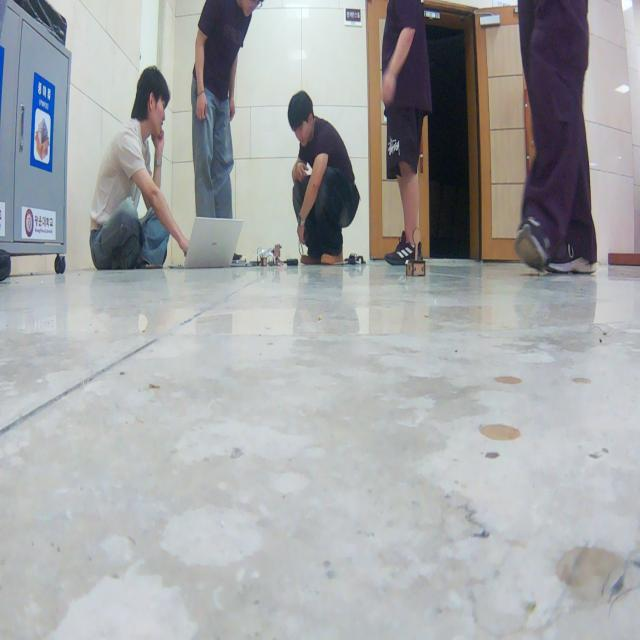target: (406, 228, 426, 276)
